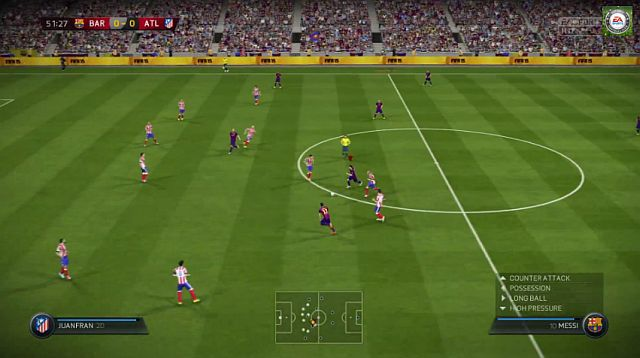ball: (329, 190, 336, 197)
player: (173, 258, 202, 308), (53, 239, 74, 281), (315, 200, 336, 235), (137, 151, 151, 186), (144, 120, 160, 147), (227, 127, 241, 154), (346, 164, 361, 189), (374, 189, 385, 223), (365, 170, 378, 198), (305, 153, 316, 183), (374, 98, 386, 121), (245, 123, 256, 147), (250, 84, 261, 107), (178, 98, 188, 123), (423, 67, 434, 89), (274, 71, 284, 90)
